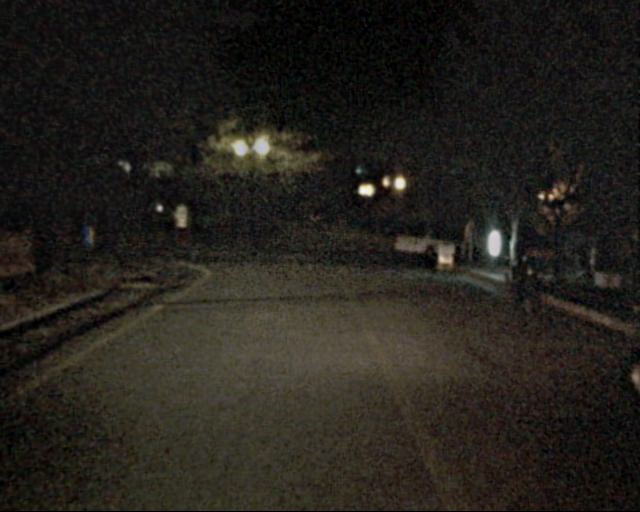person: (566, 224, 591, 286)
